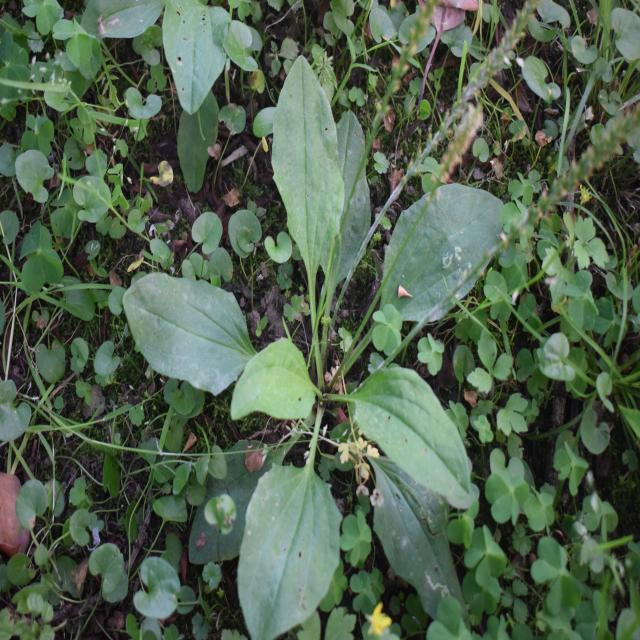plantain: (184, 90, 481, 586)
